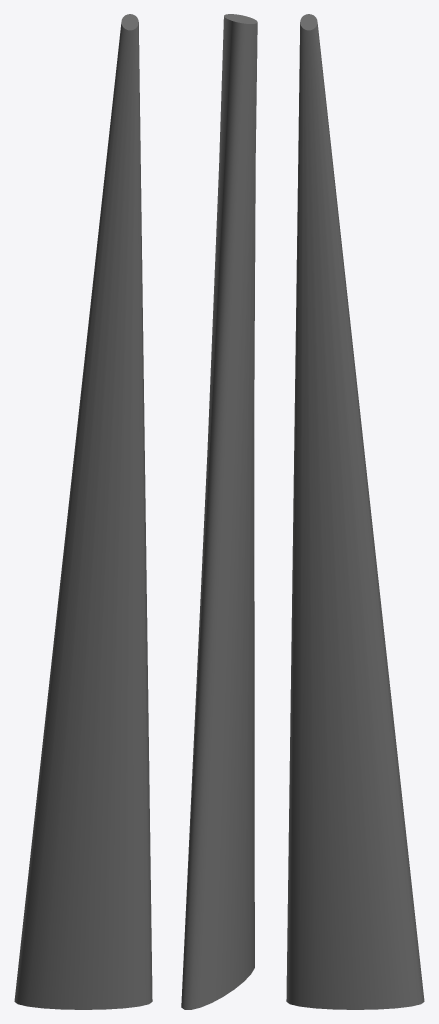
The model's file is Tool_3.fbx.
3 views of the same model, side by side, from view 1: azimuth 90°, elevation 25°; view 2: azimuth 150°, elevation 25°; view 3: azimuth 270°, elevation 25° (orthographic). The views are drawn at different scales.
Parts seen in each view (by area): view 1: Tool_1; view 2: Tool_1; view 3: Tool_1.
Boxes of the visible parts, left/top/right/bottom form: Tool_1: left=14, top=14, right=152, bottom=1009; Tool_1: left=181, top=14, right=257, bottom=1009; Tool_1: left=286, top=14, right=424, bottom=1009.
Size of the model in its own units: 0.00669 by 0.1855 by 0.0237.
1 material, 1 textured.
